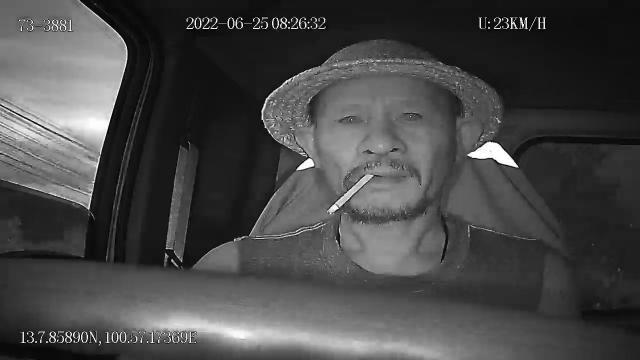SafeDriving: (390, 101, 430, 128), (331, 106, 370, 130)
Smoking: (325, 171, 375, 215)
